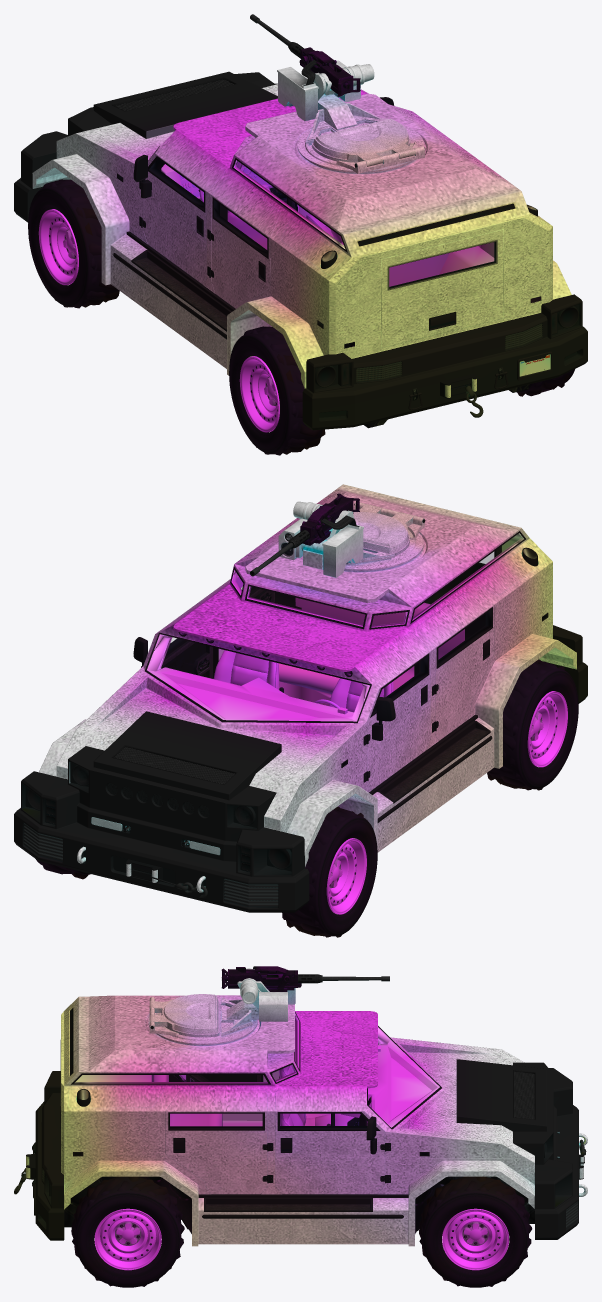
The model's file is menacer.glb.
3 renders of one model, top to bottom at view 1: azimuth 30°, elevation 25°; view 2: azimuth 150°, elevation 25°; view 3: azimuth 270°, elevation 25°, orthographic. The views are drawn at different scales.
Parts seen in each view (by area): view 1: bodyshell, wheel_lr, wheel_lf, door_dside_f, door_dside_r, chassis, misc_j, misc_s, boot, misc_u, turret_1base, windscreen_r (+7 smaller); view 2: bodyshell, chassis, misc_j, wheel_lr, wheel_lf, door_dside_f, door_dside_r, misc_k, misc_s, misc_u, boot, door_pside_f (+7 smaller); view 3: bodyshell, chassis, wheel_rr, wheel_rf, door_pside_f, door_pside_r, misc_s, misc_j, boot, misc_t, misc_e, misc_u (+6 smaller).
Boxes of the visible parts, x1,y1,x2,y2 form: bodyshell: (14,72,587,430); wheel_lr: (229,326,325,455); wheel_lf: (28,179,119,308); door_dside_f: (133,140,224,284); door_dside_r: (209,176,280,308); chassis: (156,160,552,428); misc_j: (93,71,277,138); misc_s: (111,246,226,368); boot: (312,118,415,166); misc_u: (277,60,374,121); turret_1base: (297,120,424,173); windscreen_r: (390,242,494,286); bodyshell: (14,484,587,912); chassis: (147,533,523,900); misc_j: (93,711,281,800); wheel_lr: (487,659,578,790); wheel_lf: (282,806,377,937); door_dside_f: (367,632,430,789); door_dside_r: (417,592,494,740); misc_k: (90,770,225,840); misc_s: (377,729,493,852); misc_u: (278,501,363,577); boot: (353,504,415,556); door_pside_f: (133,587,224,678); bodyshell: (26,995,587,1246); chassis: (14,1013,586,1233); wheel_rr: (71,1176,184,1287); wheel_rf: (419,1176,532,1287); door_pside_f: (275,1090,386,1194); door_pside_r: (165,1090,268,1194); misc_s: (199,1210,408,1244); misc_j: (456,1059,546,1131); boot: (149,994,219,1037); misc_t: (221,966,389,991); misc_e: (68,1089,163,1107); misc_u: (237,966,295,1021).
Bounding box in the file's own units: 2.87 × 2.84 × 5.62.
Materials: 24 (19 with a texture image).
